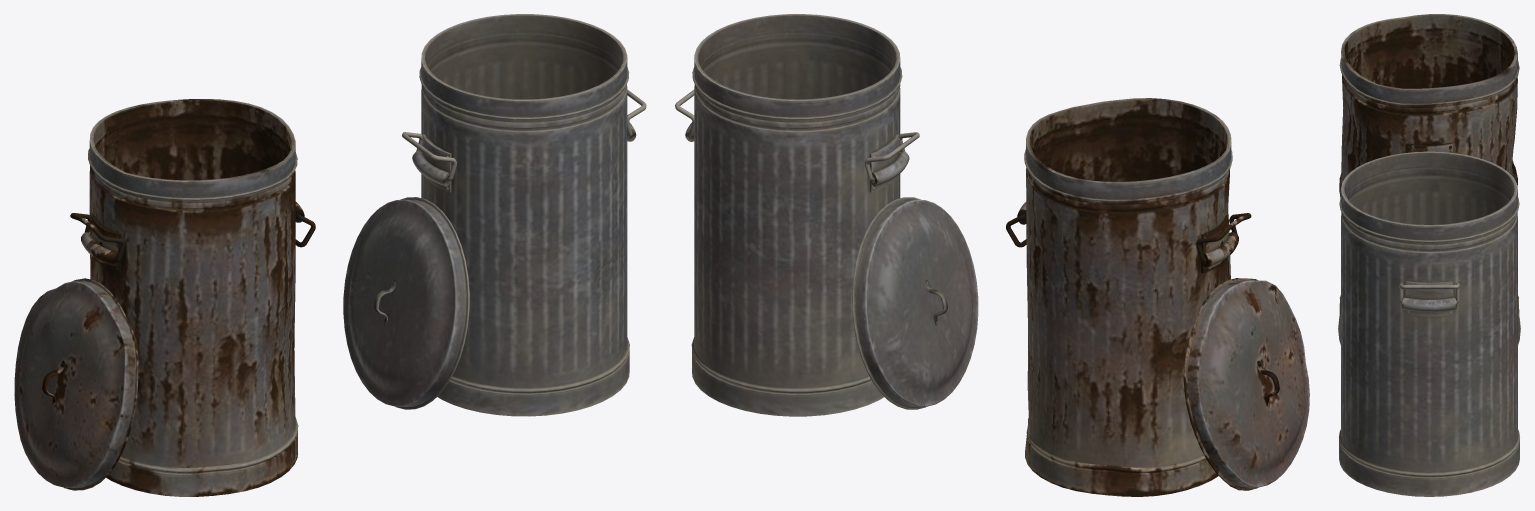
The model's file is metal_trash_can.glb.
3 renders of one model, left to right at view 1: azimuth 30°, elevation 25°; view 2: azimuth 150°, elevation 25°; view 3: azimuth 270°, elevation 25°, orthographic. The views are drawn at different scales.
Visible parts, largest first — view 1: metal_trash_can, metal_trash_can_rust, metal_trash_can_lid, metal_trash_can_rust_lid; view 2: metal_trash_can, metal_trash_can_rust, metal_trash_can_lid, metal_trash_can_rust_lid; view 3: metal_trash_can, metal_trash_can_rust, metal_trash_can_handle_right.
Boxes of the visible parts, x1,y1,x2,y2 form: metal_trash_can: (412,14,636,416); metal_trash_can_rust: (81,99,304,496); metal_trash_can_lid: (343,197,469,409); metal_trash_can_rust_lid: (14,278,138,490); metal_trash_can: (685,14,909,416); metal_trash_can_rust: (1017,98,1238,496); metal_trash_can_lid: (852,197,978,409); metal_trash_can_rust_lid: (1183,278,1309,490); metal_trash_can: (1339,151,1519,496); metal_trash_can_rust: (1339,14,1519,316); metal_trash_can_handle_right: (1399,283,1459,303).
Size of the model in its own units: 1.78 by 0.9062 by 0.5563.
2 materials, 2 textured.
